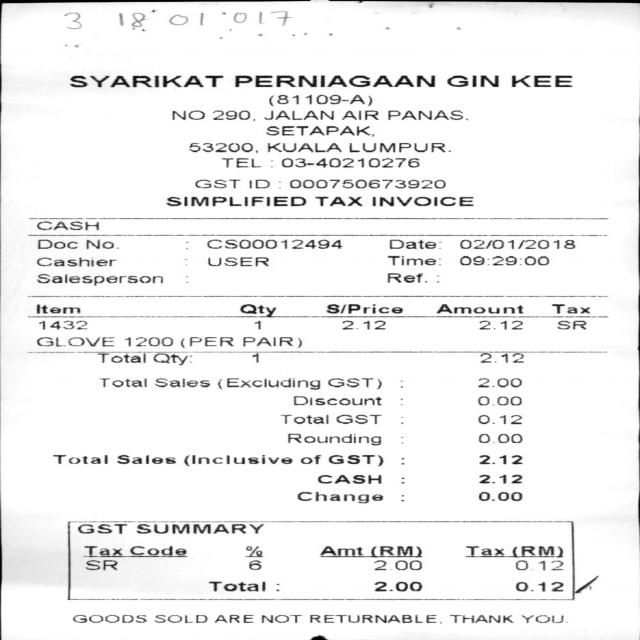text: (234, 75, 433, 87), (69, 75, 221, 87), (164, 195, 305, 206), (135, 522, 263, 533), (218, 376, 318, 390), (200, 238, 339, 248), (290, 179, 444, 188), (35, 274, 161, 285), (281, 157, 418, 167), (308, 613, 439, 623), (458, 237, 577, 248), (36, 254, 115, 270), (285, 432, 380, 445), (182, 454, 291, 465), (267, 94, 370, 105), (318, 546, 421, 557), (370, 195, 472, 206), (264, 126, 372, 136), (467, 546, 562, 557), (295, 491, 382, 503), (348, 142, 448, 152), (458, 255, 548, 265), (292, 395, 379, 405), (133, 544, 187, 560), (324, 303, 401, 314), (386, 109, 466, 119), (436, 304, 522, 313), (35, 336, 112, 346), (188, 142, 256, 153), (266, 142, 340, 152), (70, 521, 131, 533), (262, 109, 332, 119), (386, 238, 442, 250), (326, 454, 382, 466), (510, 75, 570, 86), (240, 336, 300, 347), (82, 544, 122, 560), (180, 336, 232, 348), (206, 256, 268, 266), (208, 580, 264, 591), (36, 221, 102, 230), (71, 614, 145, 622), (316, 474, 380, 483), (445, 75, 497, 86), (448, 614, 511, 623), (116, 454, 170, 464), (513, 559, 562, 570), (514, 581, 563, 592), (386, 255, 439, 265), (313, 195, 361, 206), (372, 580, 420, 591), (36, 238, 76, 251), (328, 378, 380, 388), (373, 559, 420, 570), (239, 303, 278, 316), (151, 352, 190, 365), (36, 320, 86, 330), (159, 377, 208, 387), (476, 432, 520, 443), (278, 414, 326, 424), (53, 454, 106, 463), (211, 109, 254, 120), (124, 336, 171, 346), (386, 273, 438, 282), (153, 614, 205, 623), (99, 377, 145, 387), (334, 414, 380, 424), (477, 319, 522, 329), (94, 353, 144, 362), (550, 303, 590, 314), (478, 352, 522, 362), (476, 377, 520, 387), (476, 414, 520, 424), (476, 454, 520, 464), (476, 491, 520, 501), (193, 179, 238, 188), (219, 157, 259, 167), (476, 396, 520, 405), (476, 474, 520, 483), (35, 304, 78, 313), (519, 614, 562, 623), (341, 320, 383, 329), (81, 239, 115, 250), (340, 109, 377, 119), (260, 614, 300, 623), (84, 559, 115, 570), (170, 109, 202, 119), (213, 614, 252, 622), (556, 319, 584, 329), (298, 454, 320, 464), (244, 546, 261, 557), (248, 179, 268, 188), (247, 559, 260, 569), (251, 352, 257, 362), (252, 321, 258, 329)
